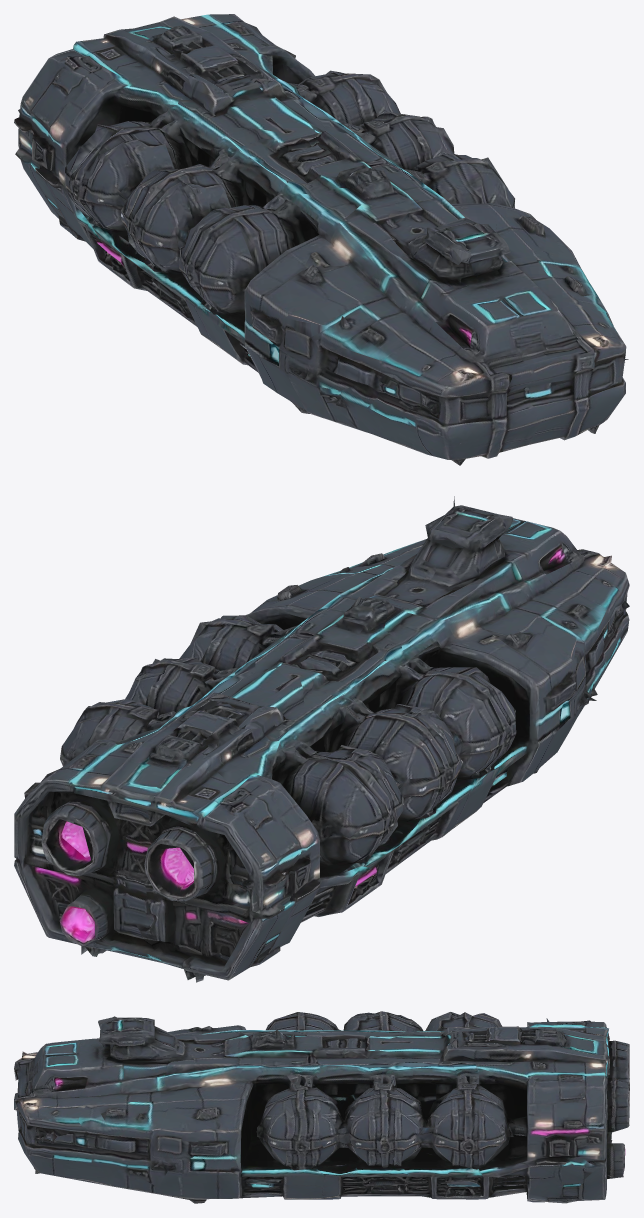
The model's file is prop-ship-a.glb.
3 views of the same model, one above another, from view 1: azimuth 30°, elevation 25°; view 2: azimuth 150°, elevation 25°; view 3: azimuth 270°, elevation 25° (orthographic). The views are drawn at different scales.
Visible parts, largest first — view 1: body; view 2: body; view 3: body.
Part boxes in pixels (left/top/right/bottom): body: left=14, top=14, right=628, bottom=465; body: left=14, top=496, right=629, bottom=982; body: left=14, top=1011, right=629, bottom=1203.
Bounding box in the file's own units: 0.4358 × 0.29 × 0.9993.
Materials: 1 (1 with a texture image).
